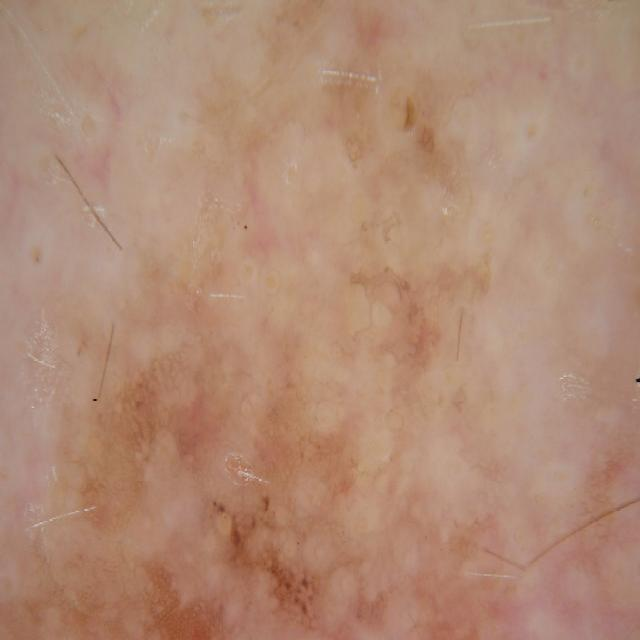Melanoma: (20, 178, 538, 640)
